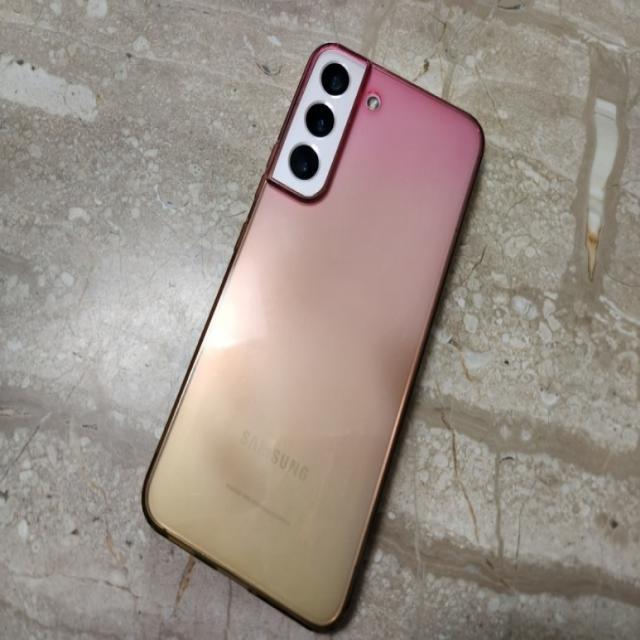phone: (142, 38, 486, 630)
